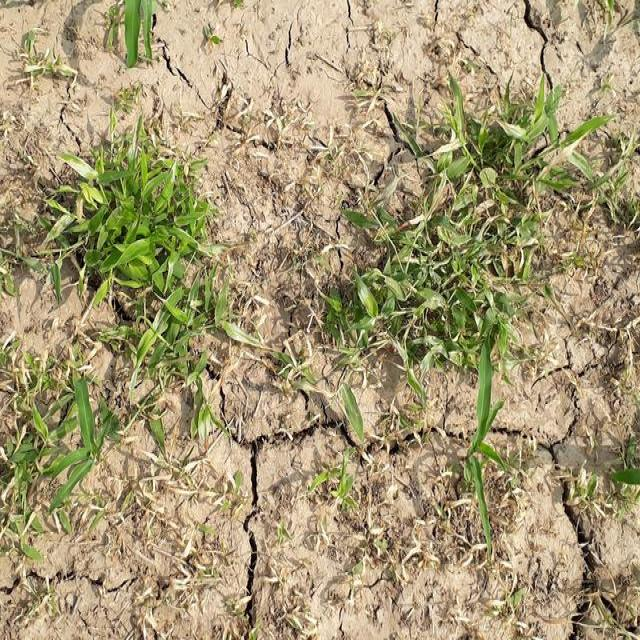weed: (278, 161, 568, 463), (61, 133, 238, 388), (0, 193, 142, 477)
